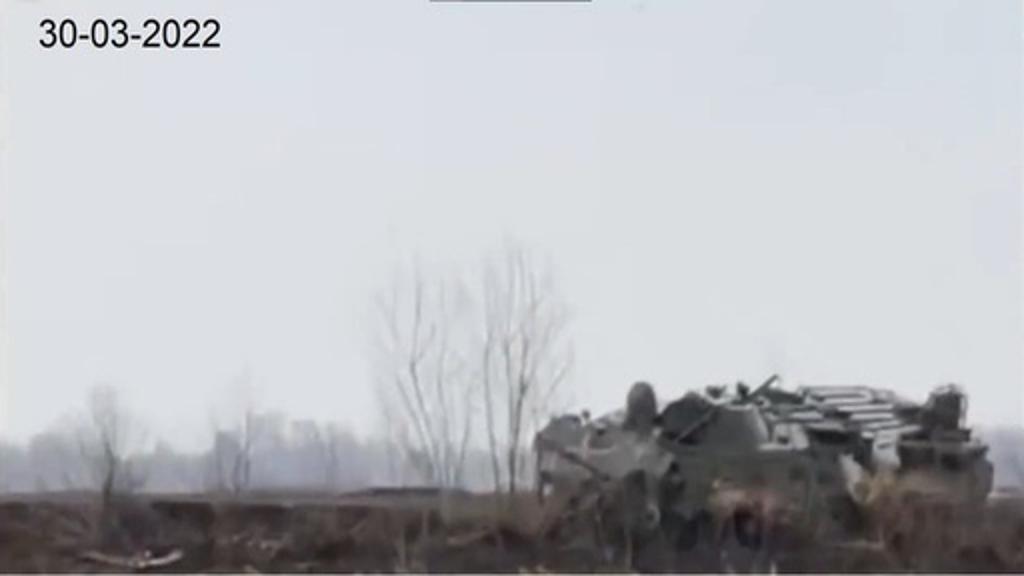APC-IFV: (520, 332, 994, 562)
